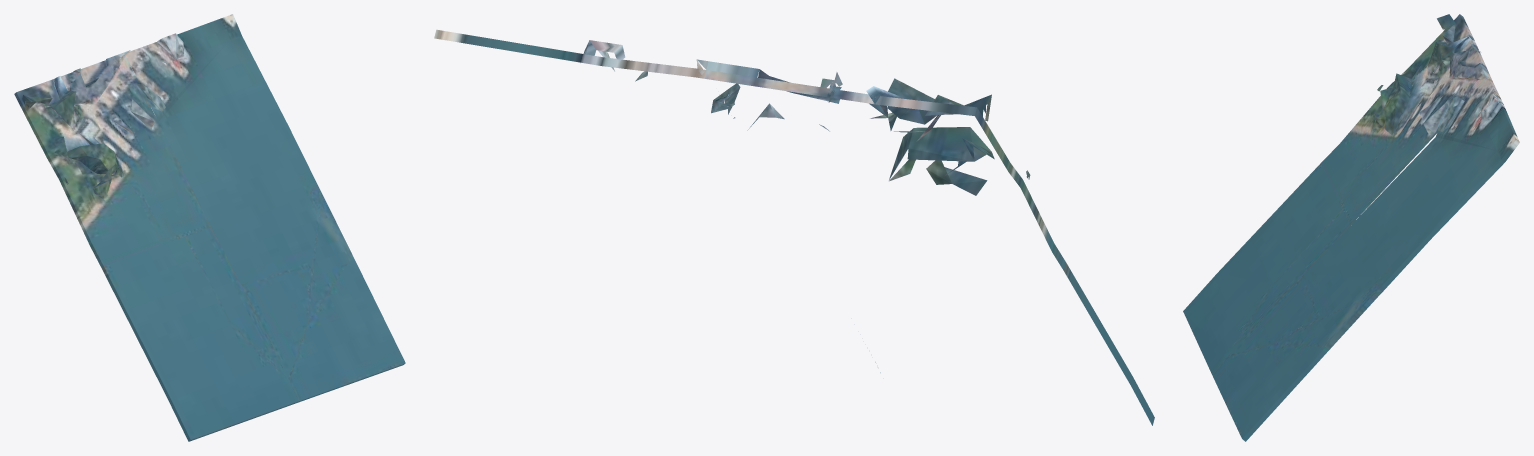
File: AJVsH2z724KTfIJOUdMruYSdN4l3xH66RuG2gxj1KrKZhnIjx-zt-uADQjoE7DaKJblFXMI3idkMr3WumKRNxZScaMHu1WhPxYxXwMGTY4NCr3SrRSnx21VjFLBKA-dUZvzHp1deczqndg2m85_g-t93D4PnALItzA.glb
The picture shows the model from 3 angles, left to right: view 1: azimuth 30°, elevation 25°; view 2: azimuth 150°, elevation 25°; view 3: azimuth 270°, elevation 25°; orthographic projection. The views are drawn at different scales.
Bounding box in the file's own units: 256 × 233 × 248.
Materials: 1 (1 with a texture image).
